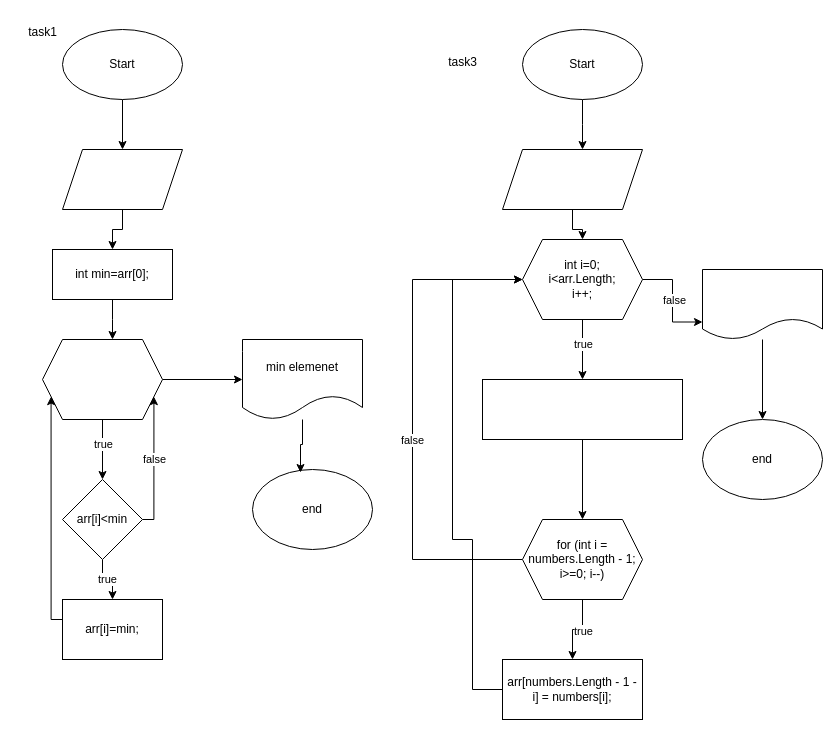
Some shapes in this 840 by 737 pixel diagram are drawn without their labels. The centre of each missing label's shape, as x and y in pixels:
int i=0; i<arr.Length; i++: [102,379]
int[] arr= {12,24,35,46,57};: [122,179]
int[] numbers = { -2,3,4,-5};: [572,179]
number[i]: [762,304]
numbers[i] = Math.Abs(numbers[i]); Console.WriteLine(numbers[i]+" ");: [582,409]
